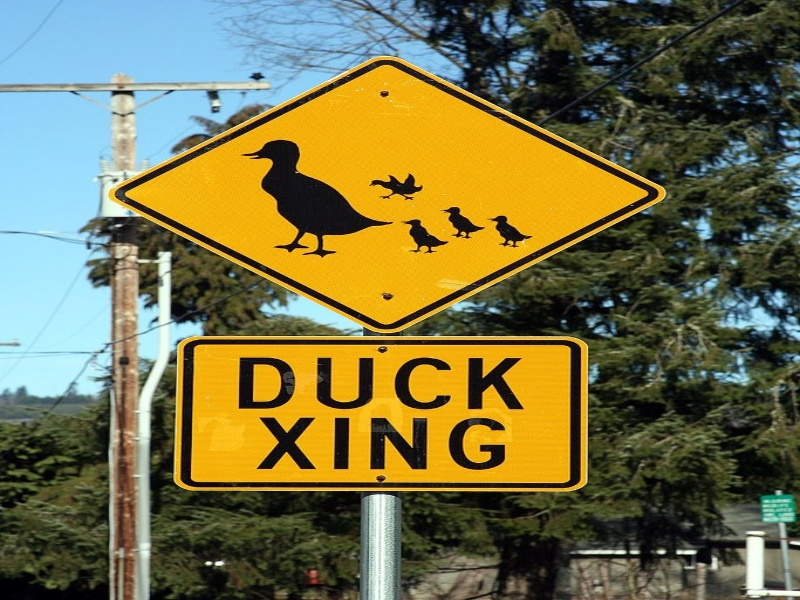duck_xing: (105, 113, 666, 502)
